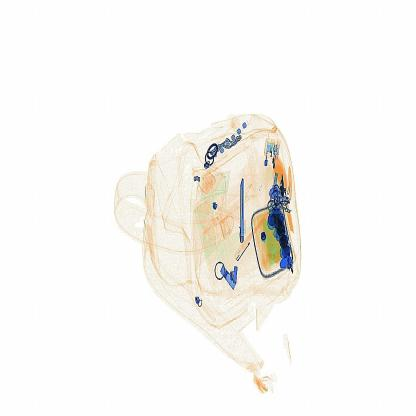pliers: (225, 176, 249, 246)
